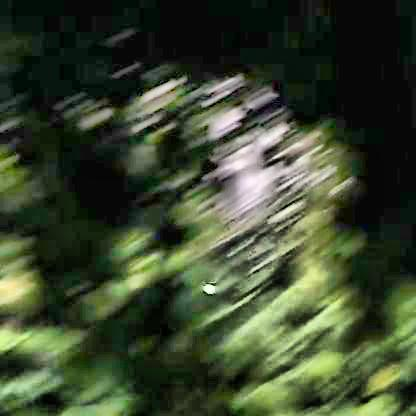golfball: (200, 283, 213, 293)
